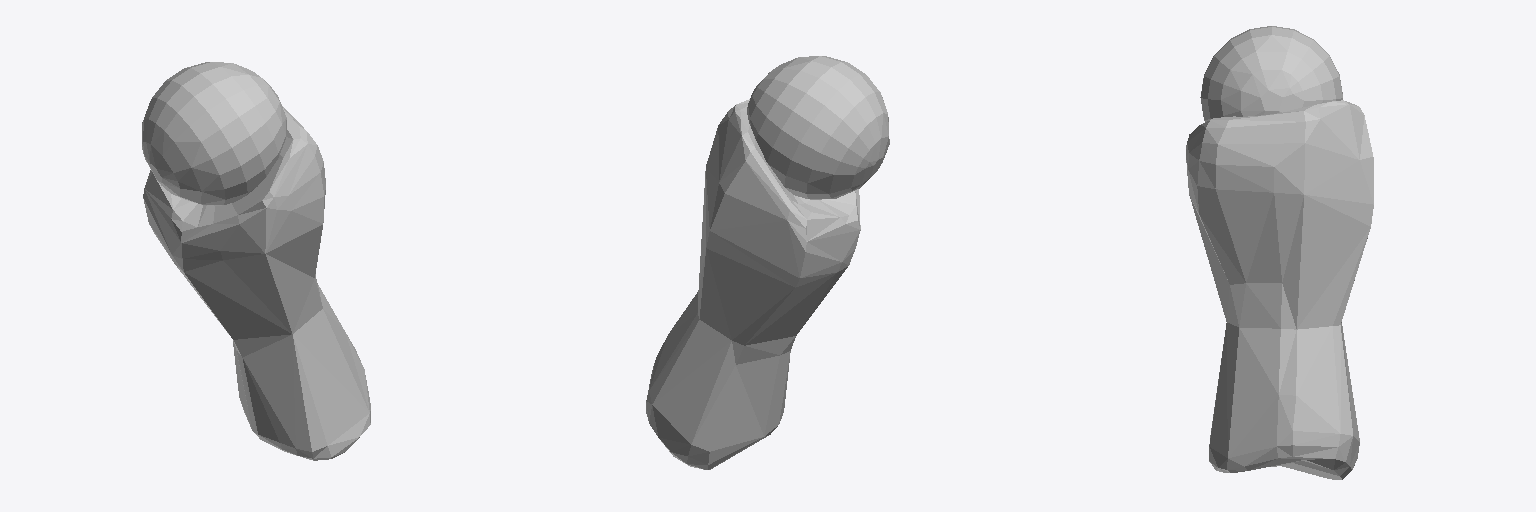
File: brazoD.obj
The picture shows the model from 3 angles: view 1: azimuth 30°, elevation 25°; view 2: azimuth 150°, elevation 25°; view 3: azimuth 270°, elevation 25°; orthographic projection.
Parts seen in each view (by area): view 1: brazoD_Alpha_HighJointsGeo.004; view 2: brazoD_Alpha_HighJointsGeo.004; view 3: brazoD_Alpha_HighJointsGeo.004.
Part boxes in pixels (x1,y1,x2,y2): brazoD_Alpha_HighJointsGeo.004: (142, 62, 370, 460); brazoD_Alpha_HighJointsGeo.004: (646, 56, 889, 469); brazoD_Alpha_HighJointsGeo.004: (1186, 26, 1373, 479).
Size of the model in its own units: 2.82 by 4.98 by 2.1.